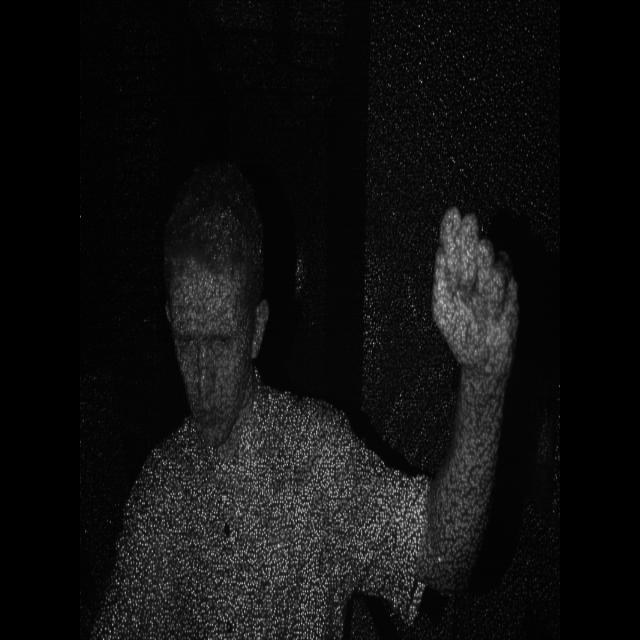N: (420, 178, 527, 410)
